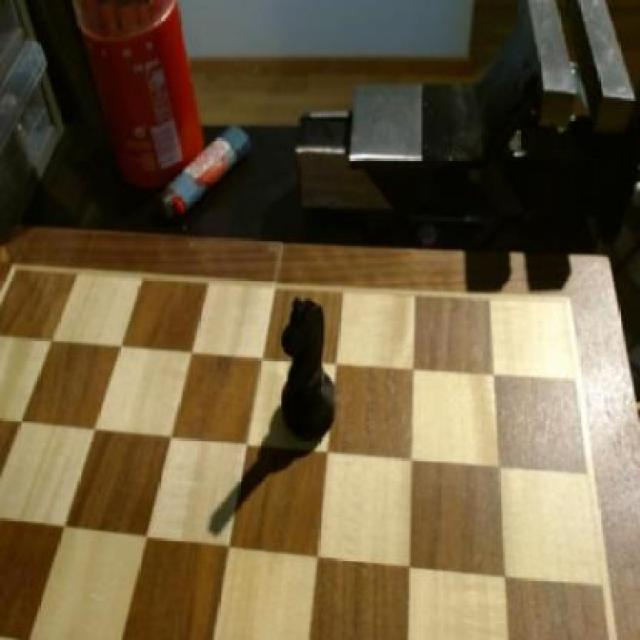black-king: (274, 287, 348, 448)
